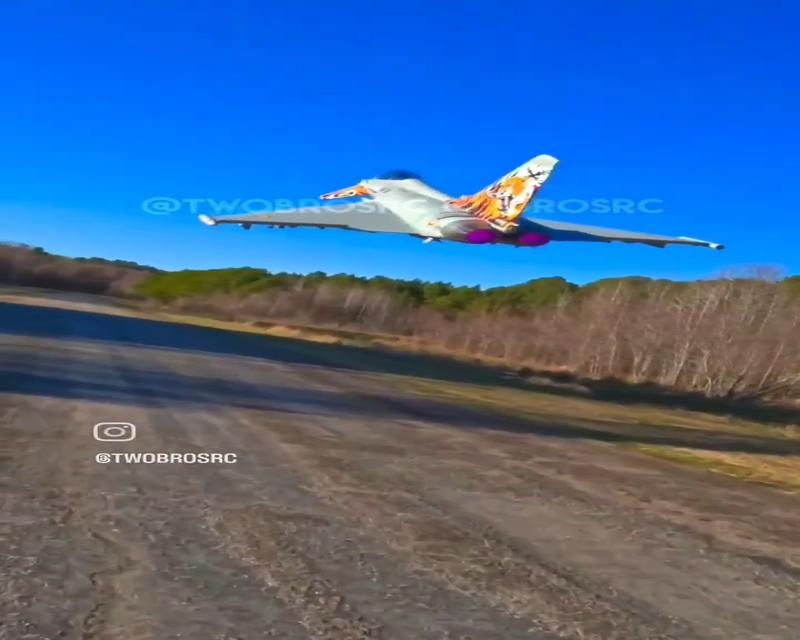UAV: (197, 153, 723, 250)
